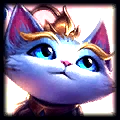Yuumi: (3, 5, 116, 115)
